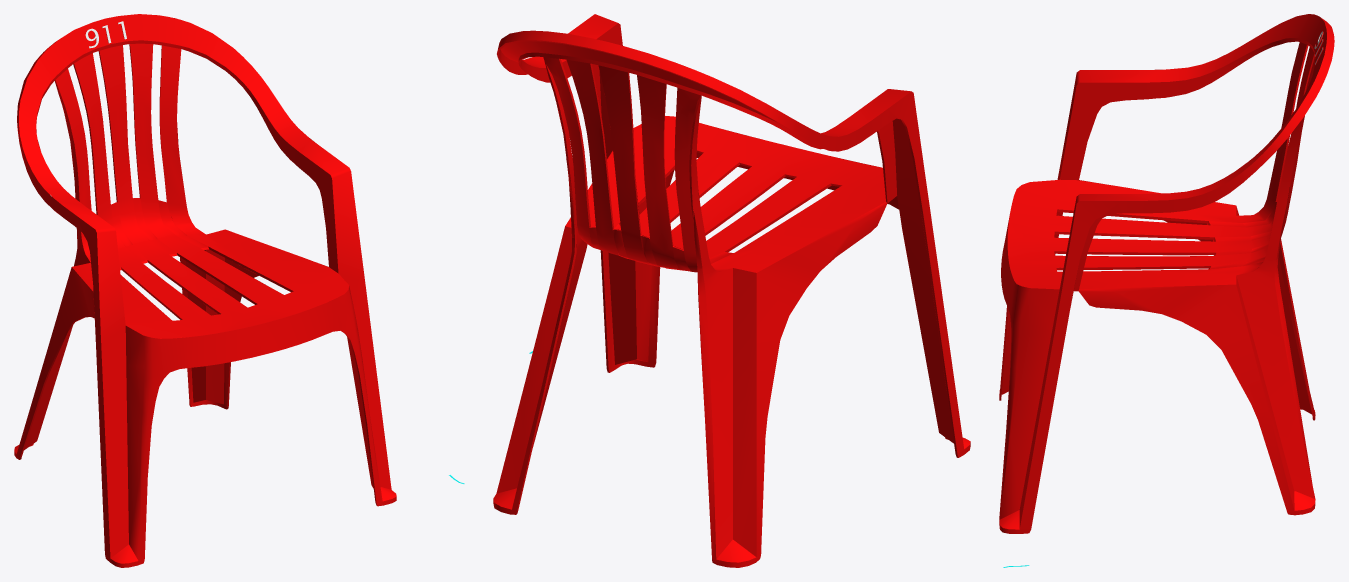
File: plastic-chair-red.glb
3 views of the same model, side by side, from view 1: azimuth 30°, elevation 25°; view 2: azimuth 150°, elevation 25°; view 3: azimuth 270°, elevation 25° (orthographic). The views are drawn at different scales.
Parts seen in each view (by area): view 1: chair_red; view 2: chair_red; view 3: chair_red.
Part boxes in pixels (x1,y1,x2,y2): chair_red: (14,14,464,567); chair_red: (493,14,970,567); chair_red: (999,14,1334,567).
Bounding box in the file's own units: 0.7188 × 0.7986 × 0.5697.
